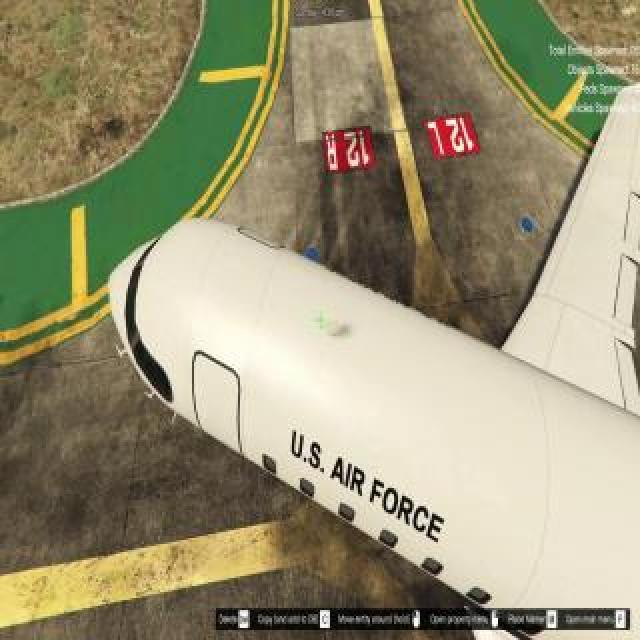dent: (330, 322, 354, 340)
